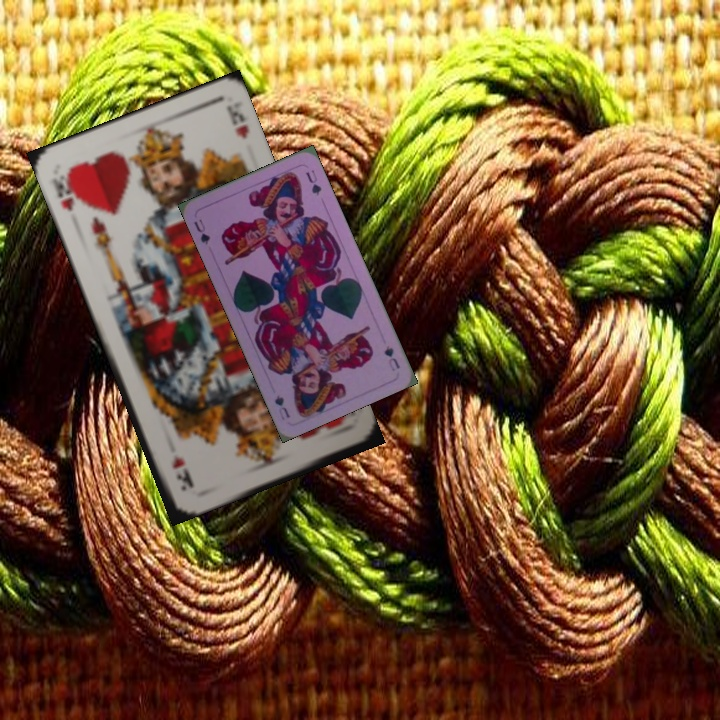GU: (380, 341, 403, 374), (190, 215, 213, 247)
HK: (47, 169, 81, 214)
